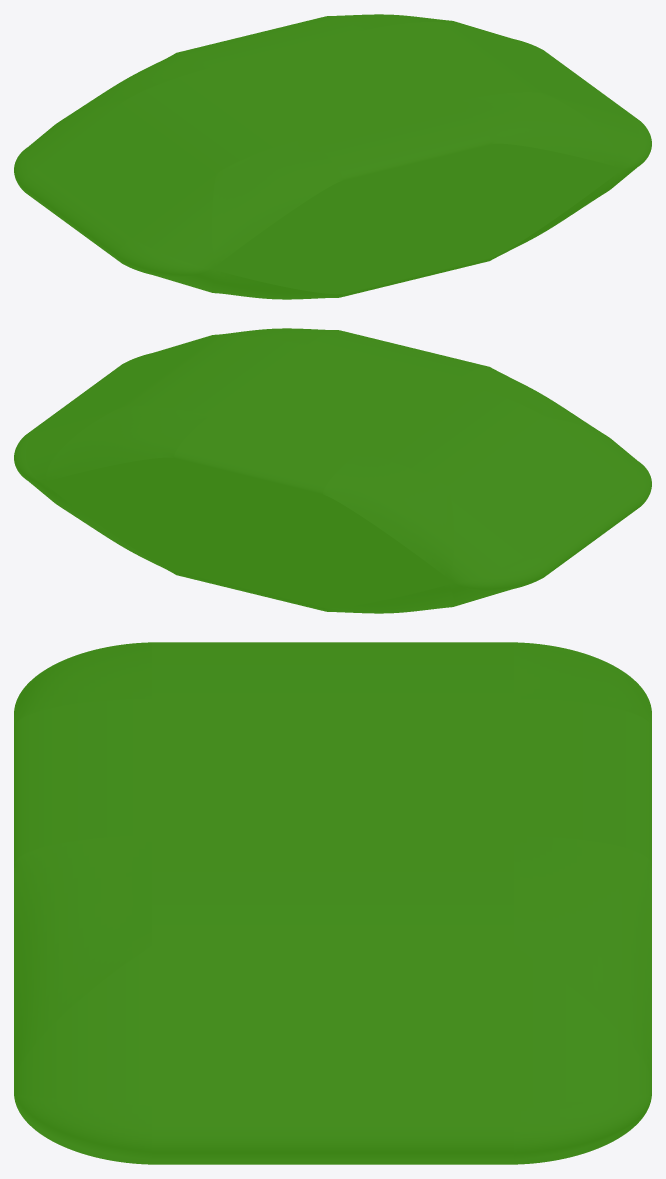
The model's file is PillowHolo.glb.
3 renders of one model, top to bottom at view 1: azimuth 30°, elevation 25°; view 2: azimuth 150°, elevation 25°; view 3: azimuth 270°, elevation 25°, orthographic. The views are drawn at different scales.
Visible parts, largest first — view 1: PillowHolo; view 2: PillowHolo; view 3: PillowHolo.
Boxes of the visible parts, x1,y1,x2,y2 form: PillowHolo: (14,14,651,299); PillowHolo: (14,328,651,613); PillowHolo: (14,642,651,1164).
Bounding box in the file's own units: 15.27 × 4 × 8.5.
